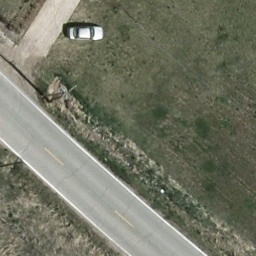car: (66, 25, 108, 41)
